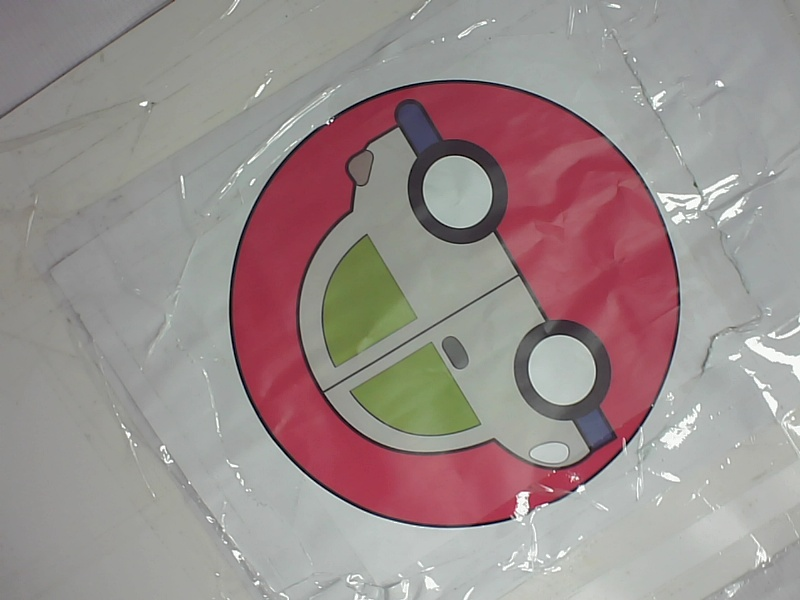areaC: (217, 72, 706, 539)
